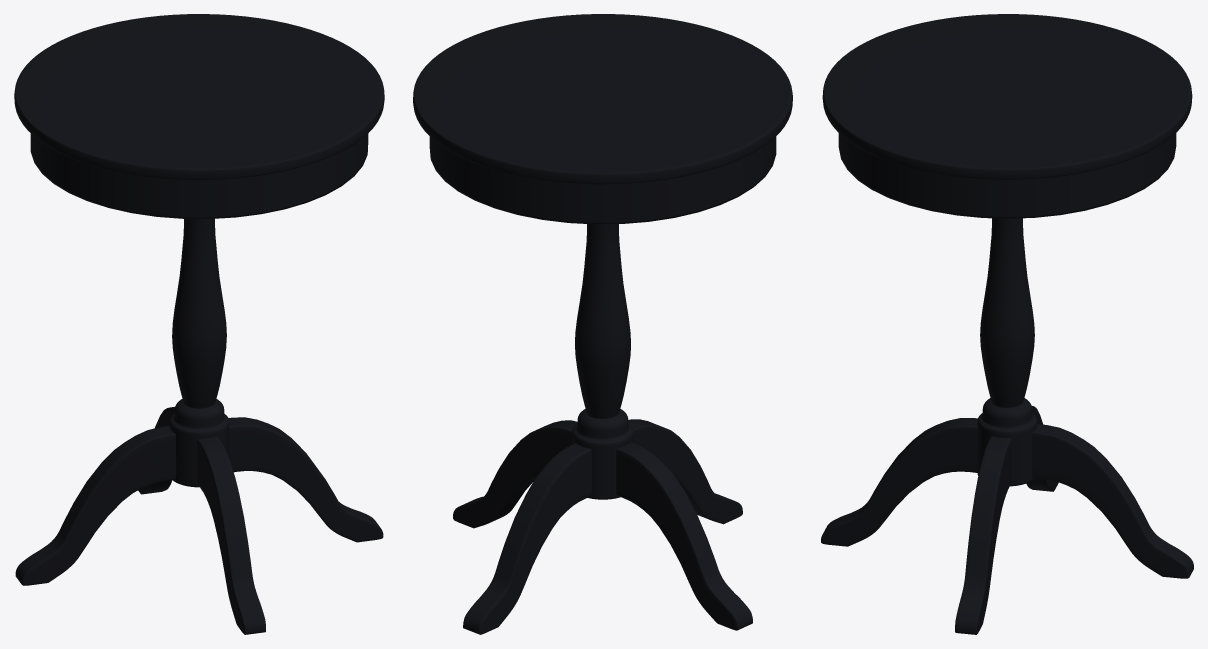
The model's file is table_B07DBB7FVL.glb.
The picture shows the model from 3 angles, left to right: view 1: azimuth 30°, elevation 25°; view 2: azimuth 150°, elevation 25°; view 3: azimuth 270°, elevation 25°; orthographic projection. The views are drawn at different scales.
Parts seen in each view (by area): view 1: RootNode; view 2: RootNode; view 3: RootNode.
Boxes of the visible parts, left/top/right/bottom form: RootNode: left=14, top=14, right=384, bottom=634; RootNode: left=413, top=14, right=792, bottom=634; RootNode: left=821, top=14, right=1193, bottom=634.
Bounding box in the file's own units: 0.4815 × 0.6646 × 0.4815.
Materials: 1 (1 with a texture image).
